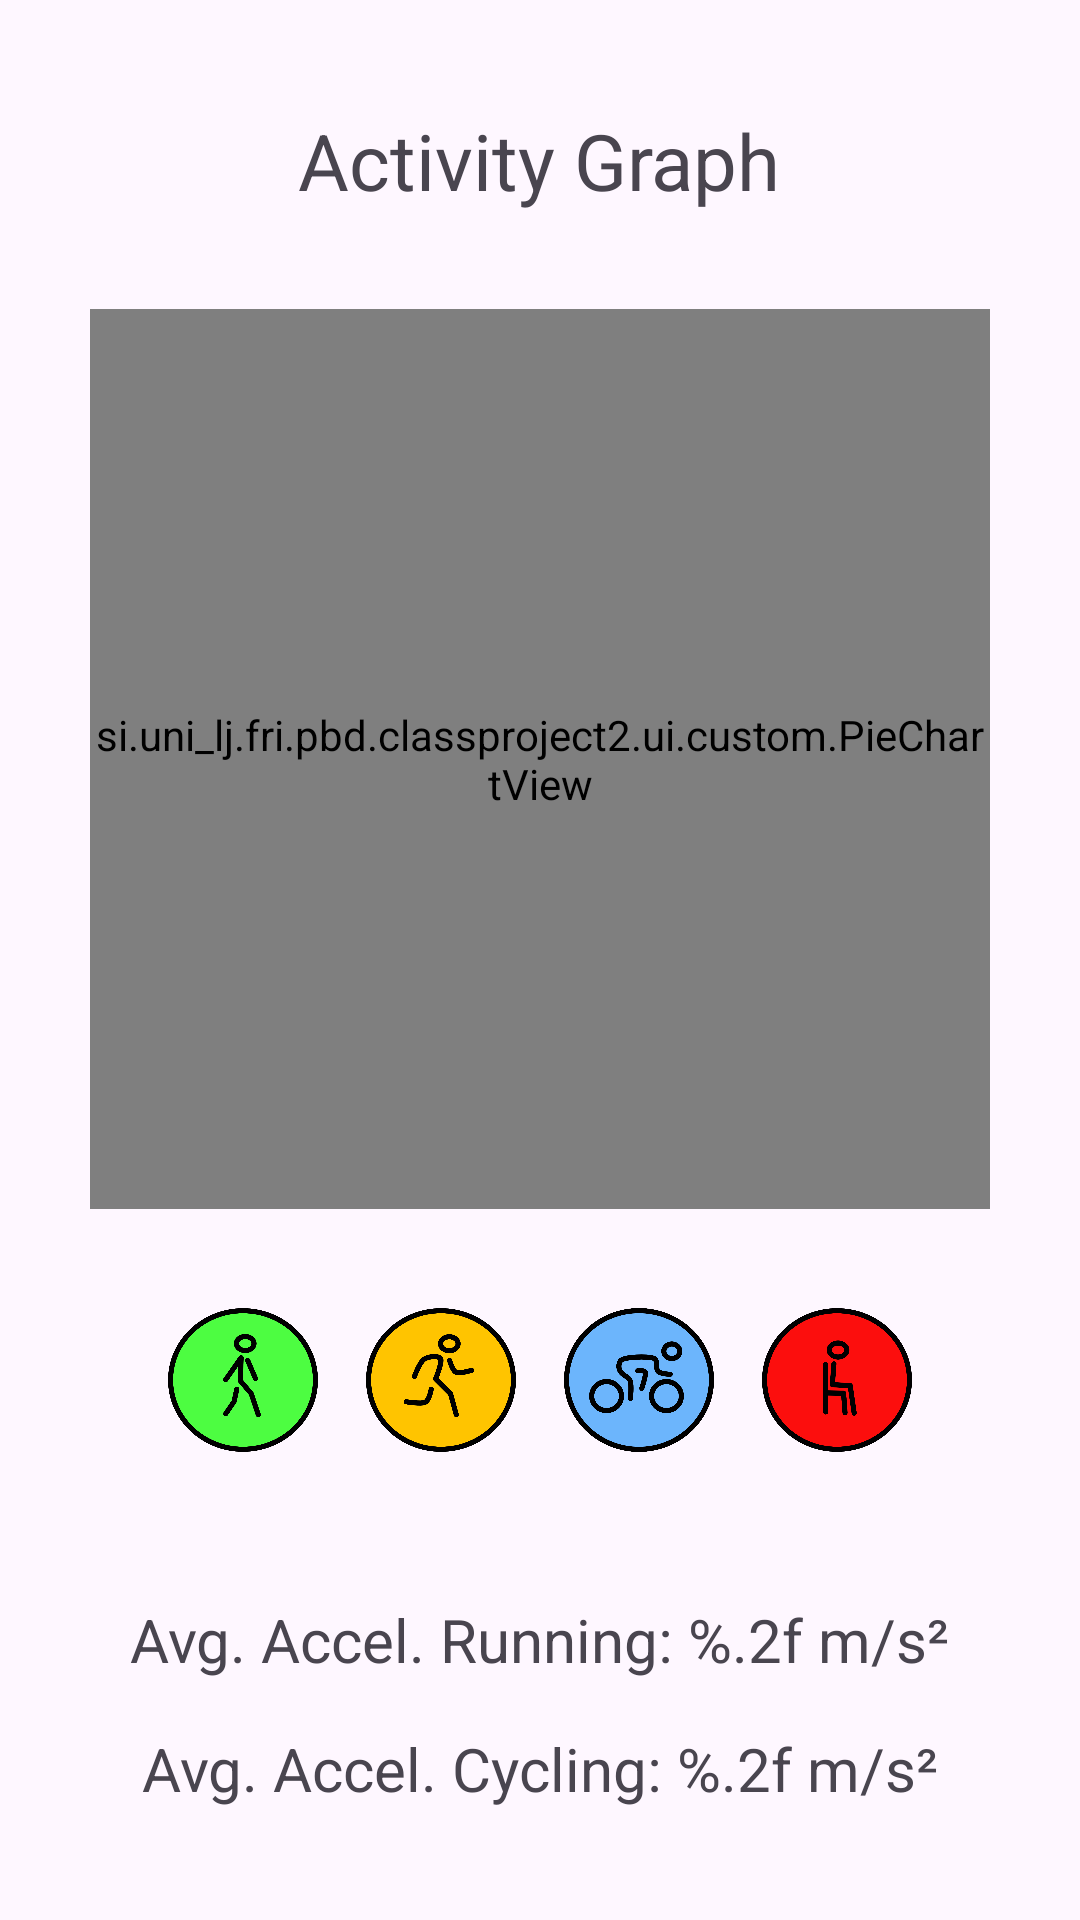

Named icons in this screenshot (1080w x 1920h) and their centers, (x=x, y=y):
Cycling: (x=639, y=1380)
Idle: (x=837, y=1380)
Walking: (x=243, y=1380)
